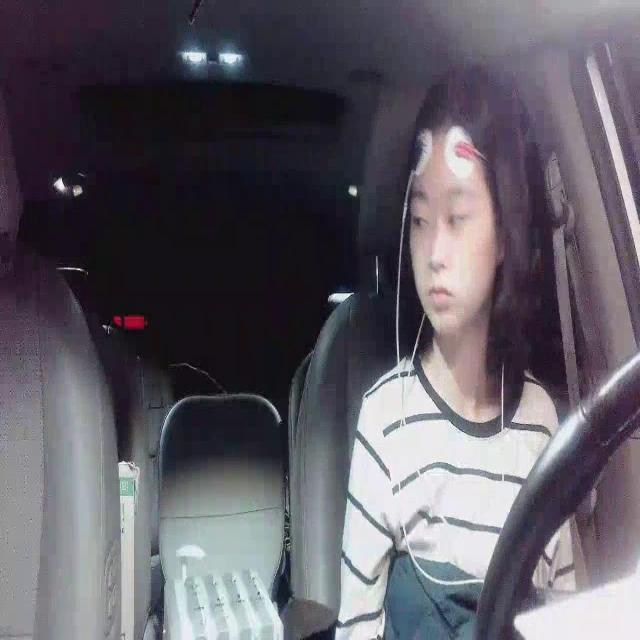Inattentive: (408, 64, 529, 338)
